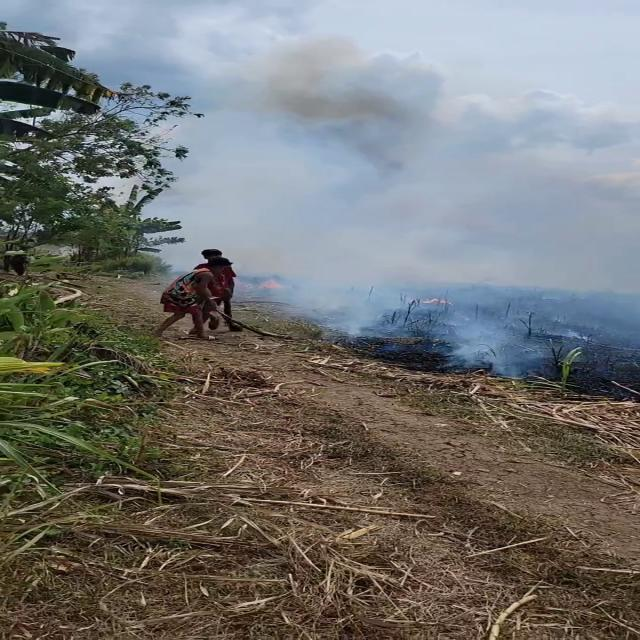Smoke: (163, 17, 621, 360)
